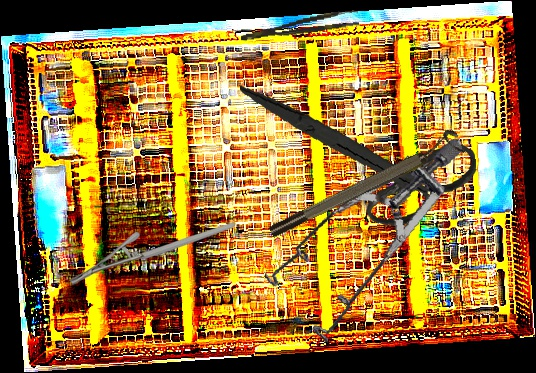Fixation Ring: (263, 126, 466, 242)
Iris Scissors: (239, 61, 482, 241)
Needle Holder: (68, 223, 236, 285)
Speculum: (245, 138, 496, 352)
Tissue Forceps: (239, 8, 360, 43)
